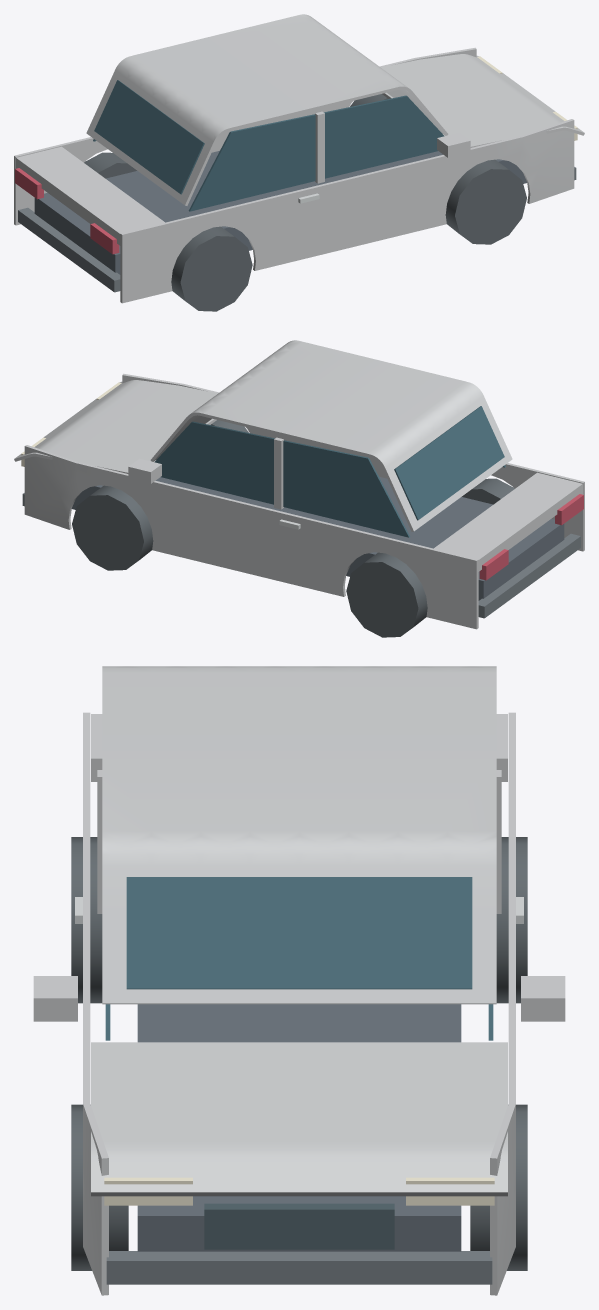
The picture shows the model from 3 angles, top to bottom: view 1: azimuth 30°, elevation 25°; view 2: azimuth 150°, elevation 25°; view 3: azimuth 270°, elevation 25°; orthographic projection. The views are drawn at different scales.
Parts seen in each view (by area): view 1: arched_fender_right, side_glass_right, rear_roof_fold, front_roof_fold, bent_hood, underbody, rear_windshield, rear_deck, wheel_rear_right, wheel_front_right, arched_fender_left, rear_bumper (+5 smaller); view 2: arched_fender_left, side_glass_left, rear_roof_fold, front_roof_fold, bent_hood, underbody, rear_windshield, rear_deck, wheel_rear_left, wheel_front_left, arched_fender_right, rear_bumper (+5 smaller); view 3: bent_hood, front_roof_fold, front_windshield, rear_roof_fold, underbody, front_bumper, front_grille, arched_fender_left, arched_fender_right, wheel_rear_left, wheel_rear_right, wheel_front_left (+8 smaller).
Boxes of the visible parts, x1=… form: arched_fender_right: x1=120, y1=119, x2=574, y2=303; side_glass_right: x1=188, y1=95, x2=444, y2=211; rear_roof_fold: x1=86, y1=35, x2=313, y2=205; front_roof_fold: x1=215, y1=14, x2=448, y2=135; bent_hood: x1=381, y1=54, x2=584, y2=147; underbody: x1=34, y1=150, x2=527, y2=274; rear_windshield: x1=94, y1=80, x2=204, y2=194; rear_deck: x1=16, y1=146, x2=164, y2=245; wheel_rear_right: x1=171, y1=226, x2=252, y2=311; wheel_front_right: x1=445, y1=159, x2=526, y2=244; arched_fender_left: x1=14, y1=47, x2=476, y2=225; rear_bumper: x1=18, y1=207, x2=120, y2=292; arched_fender_left: x1=24, y1=445, x2=478, y2=629; side_glass_left: x1=154, y1=421, x2=410, y2=537; rear_roof_fold: x1=285, y1=361, x2=512, y2=531; front_roof_fold: x1=150, y1=340, x2=383, y2=461; bent_hood: x1=14, y1=380, x2=217, y2=473; underbody: x1=71, y1=476, x2=564, y2=600; rear_windshield: x1=394, y1=406, x2=504, y2=520; rear_deck: x1=434, y1=472, x2=582, y2=571; wheel_rear_left: x1=346, y1=552, x2=427, y2=637; wheel_front_left: x1=72, y1=485, x2=153, y2=570; arched_fender_right: x1=122, y1=373, x2=584, y2=551; rear_bumper: x1=478, y1=533, x2=580, y2=618; bent_hood: x1=91, y1=1042, x2=507, y2=1196; front_roof_fold: x1=102, y1=752, x2=496, y2=1004; front_windshield: x1=126, y1=877, x2=472, y2=989; rear_roof_fold: x1=102, y1=666, x2=496, y2=752; underbody: x1=137, y1=1004, x2=461, y2=1251; front_bumper: x1=106, y1=1251, x2=492, y2=1284; front_grille: x1=204, y1=1203, x2=394, y2=1249; arched_fender_left: x1=490, y1=712, x2=515, y2=1295; arched_fender_right: x1=83, y1=712, x2=108, y2=1295; wheel_rear_left: x1=496, y1=837, x2=527, y2=1003; wheel_rear_right: x1=71, y1=837, x2=102, y2=1003; wheel_front_left: x1=470, y1=1104, x2=527, y2=1270.
Size of the model in its own units: 4.15 by 1.46 by 2.04.
